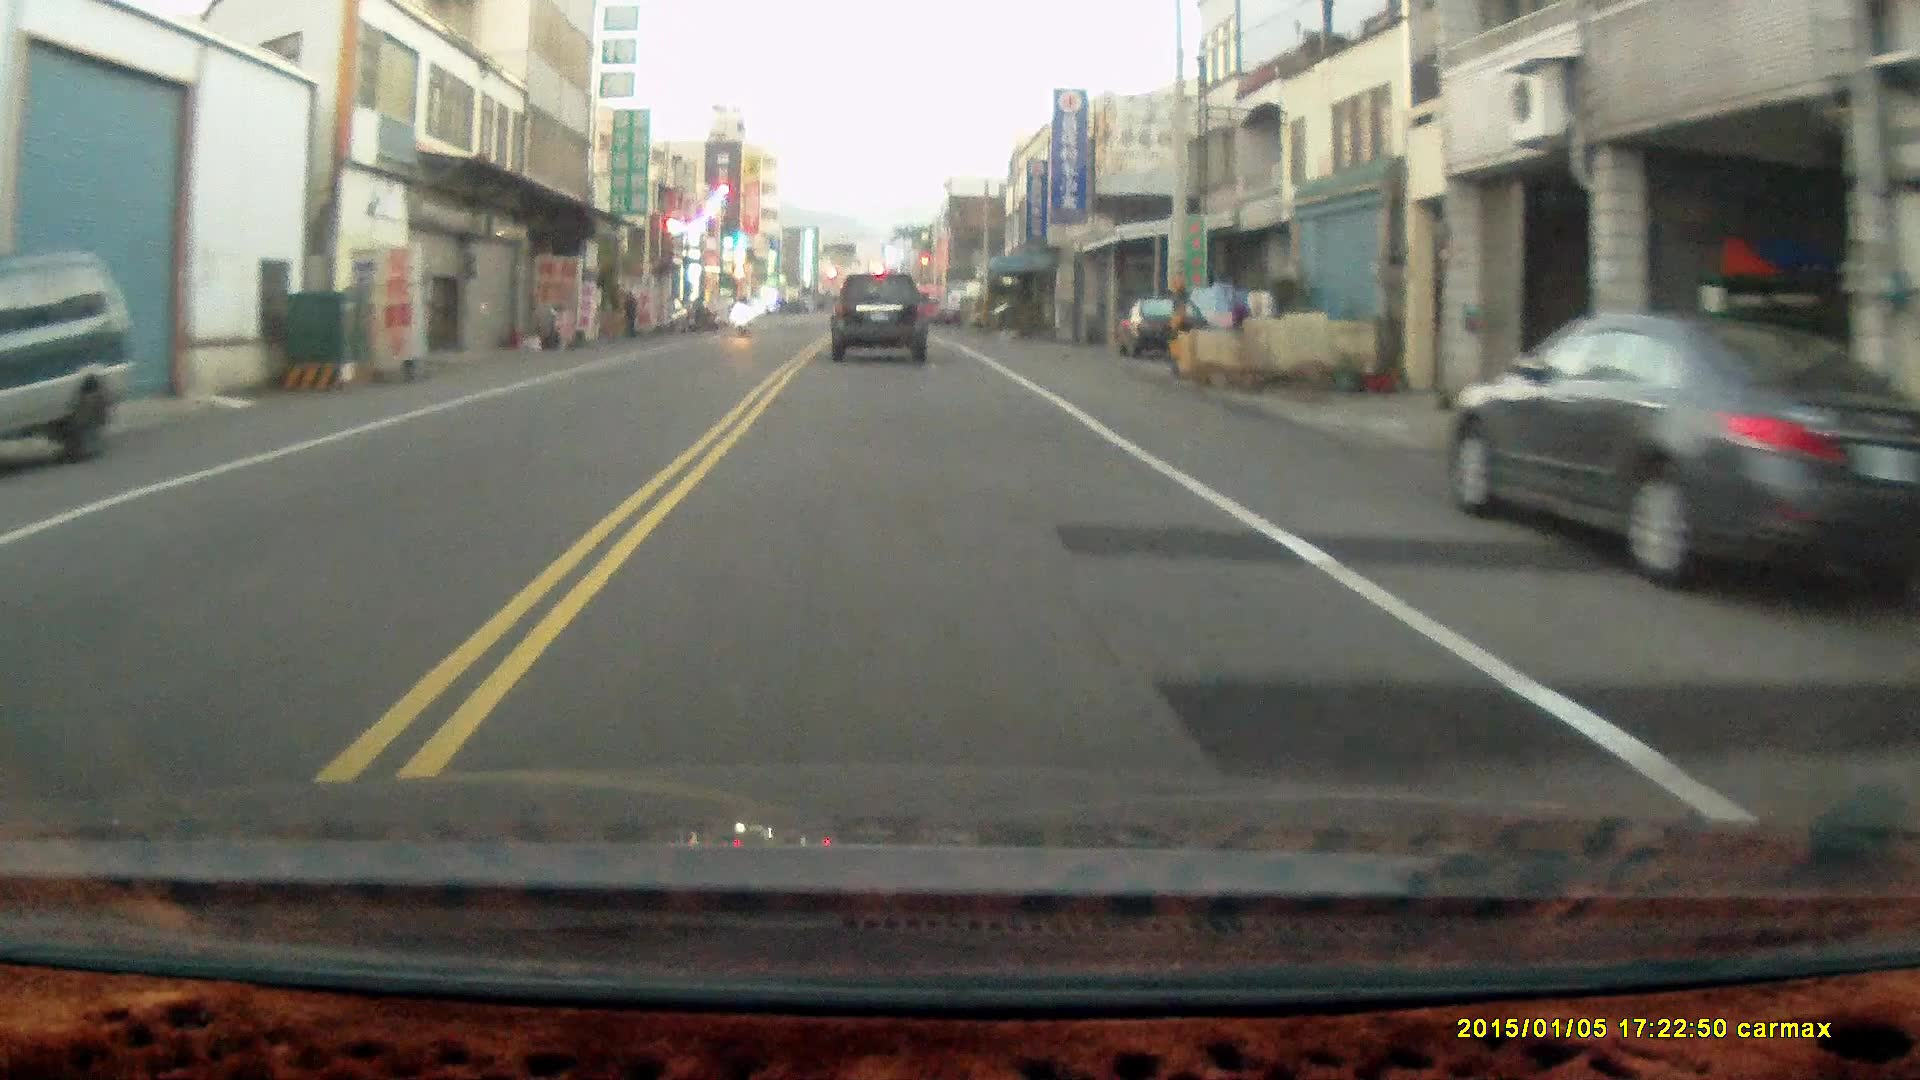pedestrian: (617, 285, 637, 335)
rider: (726, 287, 753, 336)
vehicle: (1445, 311, 1920, 602), (1, 250, 139, 474), (829, 276, 930, 369), (1118, 296, 1214, 360)
